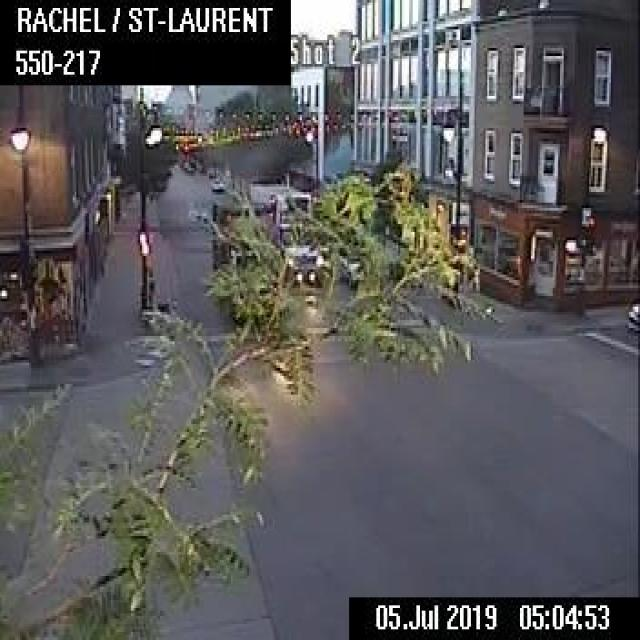vehicle: (210, 196, 283, 327), (249, 181, 312, 246), (280, 240, 331, 285), (624, 299, 638, 333)
